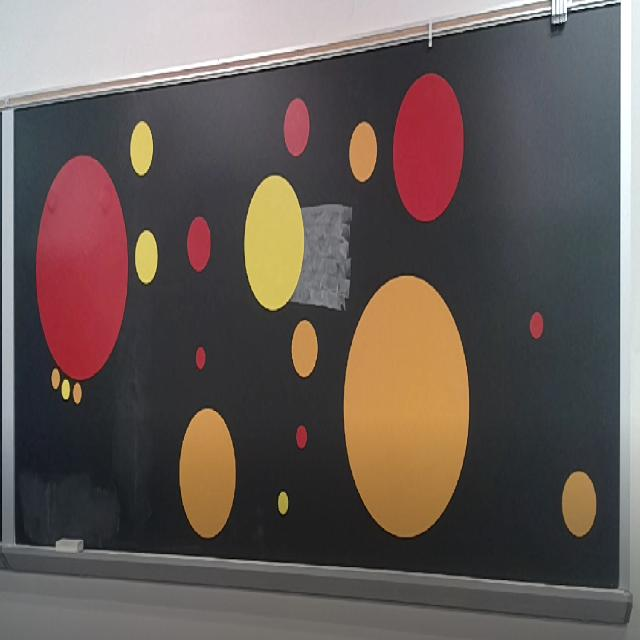Orange: (343, 273, 469, 541), (178, 407, 236, 541), (561, 470, 597, 538), (348, 120, 378, 182), (291, 319, 319, 378), (73, 382, 82, 405), (51, 368, 60, 389)
Red: (34, 154, 128, 381), (392, 73, 464, 222), (284, 98, 310, 157), (187, 215, 211, 272), (530, 312, 543, 339), (195, 346, 206, 371), (296, 425, 307, 449)
Yellow: (244, 174, 304, 312), (134, 229, 158, 285), (130, 121, 154, 177), (278, 491, 288, 516), (61, 379, 70, 401)
